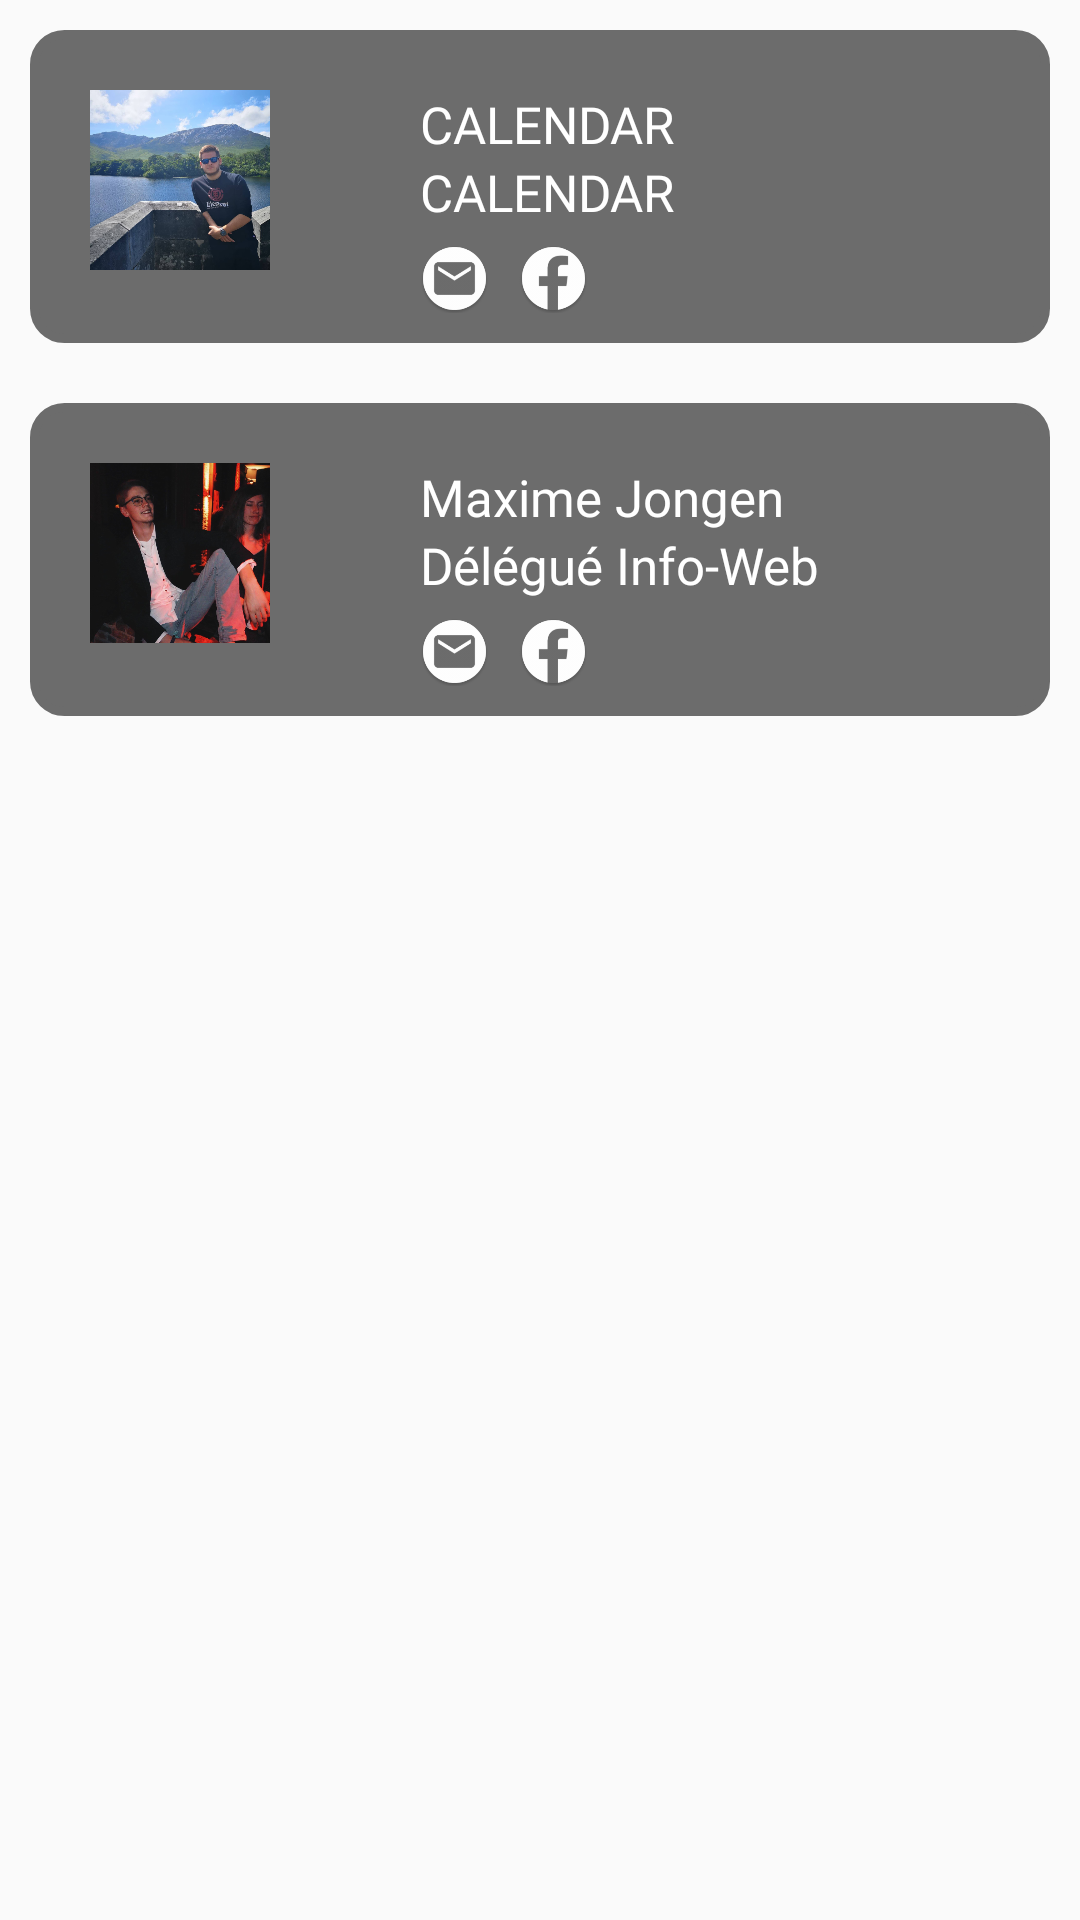

Named icons in this screenshot (1080x1920) and their centers, point (x, y):
contact mail: point (454, 278), point (454, 651)
